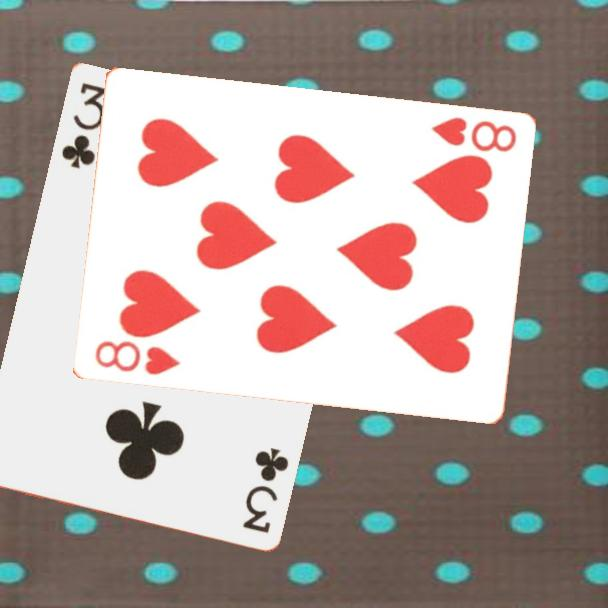c03: (57, 78, 111, 171), (239, 443, 291, 536)
h08: (427, 114, 519, 156), (91, 337, 182, 378)
